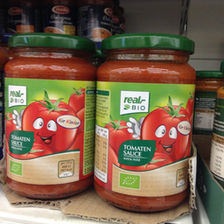tomato_sauce: (94, 34, 196, 212), (4, 34, 96, 199)
